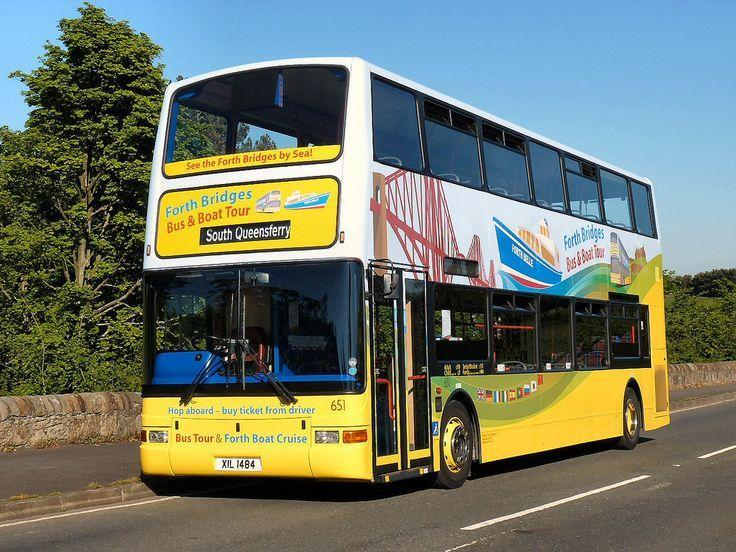Bus: (138, 58, 674, 498)
